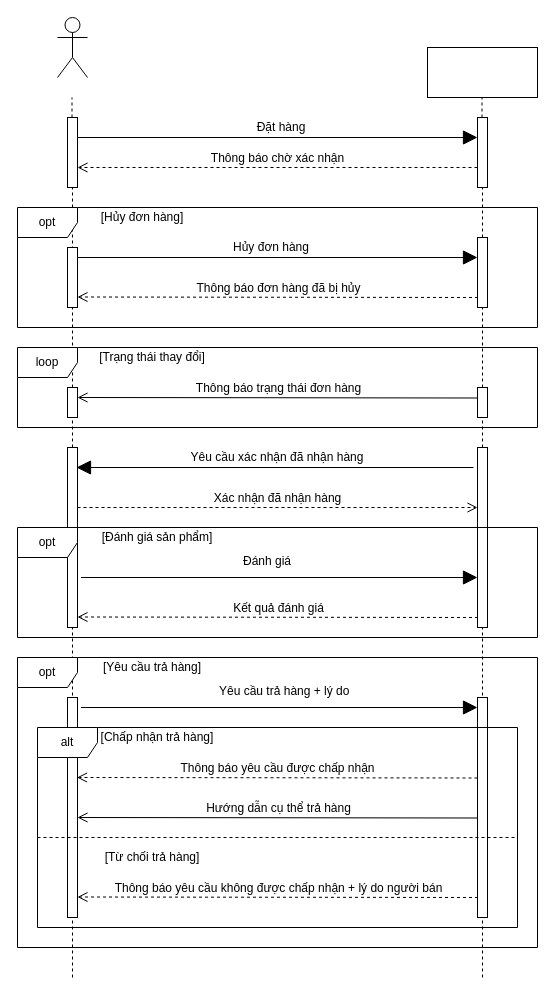
Some shapes in this 555 by 996 pixel diagram are drawn without their labels. Each missing label, with the centre of its shape:
:Khách hàng: point (72, 47)
Hệ thống: point (482, 72)
